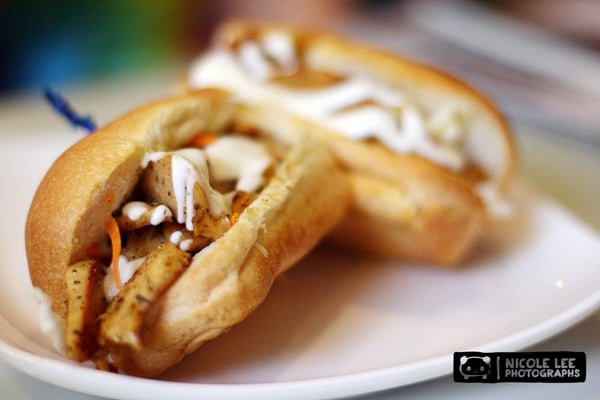soup: (16, 16, 523, 381)
